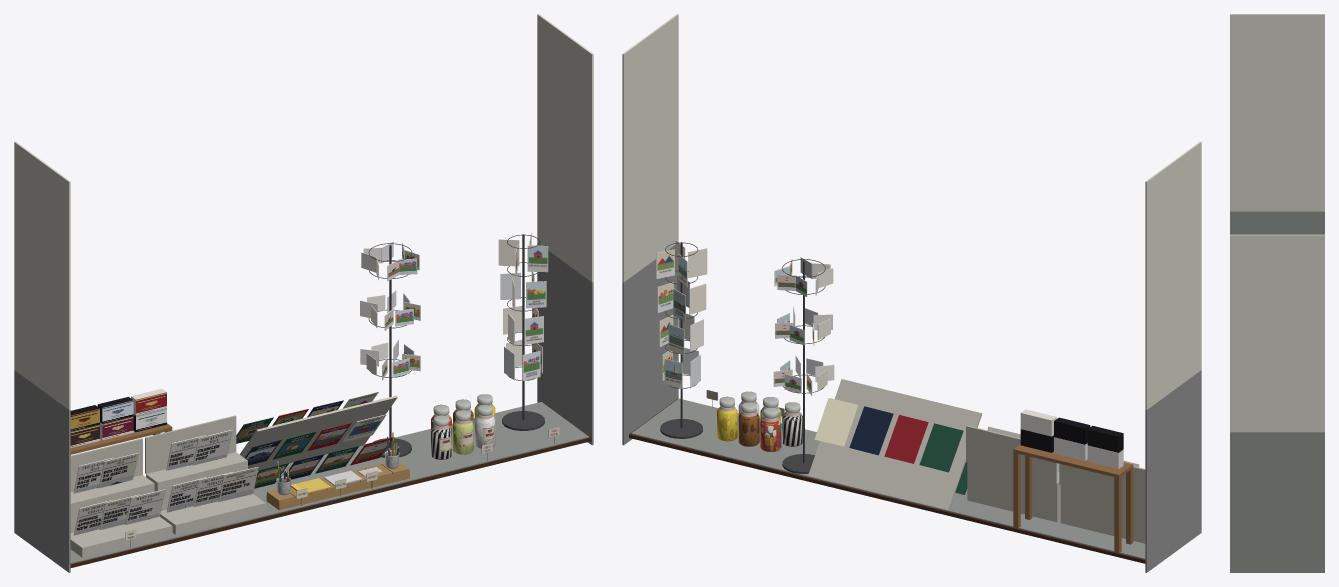
The model's file is newsagent_display.glb.
The picture shows the model from 3 angles, left to right: view 1: azimuth 30°, elevation 25°; view 2: azimuth 150°, elevation 25°; view 3: azimuth 270°, elevation 25°; orthographic projection. The views are drawn at different scales.
Visible parts, largest first — view 1: return_wall_l_plaster, return_wall_r_plaster, return_wall_l_dado, return_wall_r_dado, bed_top, paper_stand_1, magazines, paper_stand_0, card_rack, postcard_rack, magazine_board, cigarette_cartons (+16 smaller); view 2: return_wall_l_plaster, return_wall_r_plaster, magazine_board, return_wall_l_dado, bed_top, return_wall_r_dado, magazines, paper_stand_1, card_rack, paper_stand_0, postcard_rack, cigarette_cartons (+6 smaller); view 3: return_wall_r_plaster, return_wall_l_plaster, return_wall_r_dado, return_wall_l_dado.
Part boxes in pixels (<box>): return_wall_l_plaster: <box>14,141,70,409</box>; return_wall_r_plaster: <box>537,14,593,282</box>; return_wall_l_dado: <box>14,370,70,572</box>; return_wall_r_dado: <box>537,242,593,445</box>; bed_top: <box>70,402,589,563</box>; paper_stand_1: <box>145,415,265,534</box>; magazines: <box>236,391,394,488</box>; paper_stand_0: <box>70,438,172,557</box>; card_rack: <box>498,232,548,380</box>; postcard_rack: <box>360,241,420,380</box>; magazine_board: <box>239,395,397,470</box>; cigarette_cartons: <box>70,388,166,447</box>; return_wall_l_plaster: <box>1145,141,1201,409</box>; return_wall_r_plaster: <box>622,14,678,282</box>; magazine_board: <box>808,379,982,510</box>; return_wall_l_dado: <box>1145,370,1201,572</box>; bed_top: <box>631,398,1145,559</box>; return_wall_r_dado: <box>622,245,678,445</box>; magazines: <box>814,398,967,494</box>; paper_stand_1: <box>966,425,1060,522</box>; card_rack: <box>656,240,707,388</box>; paper_stand_0: <box>1059,464,1145,543</box>; postcard_rack: <box>773,257,834,395</box>; cigarette_cartons: <box>1020,409,1123,469</box>; return_wall_r_plaster: <box>1230,234,1324,432</box>; return_wall_l_plaster: <box>1230,14,1324,211</box>; return_wall_r_dado: <box>1230,432,1324,572</box>; return_wall_l_dado: <box>1230,211,1324,234</box>.
Bounding box in the file's own units: 3.37 × 2.4 × 0.61.
Materials: 19 (9 with a texture image).
